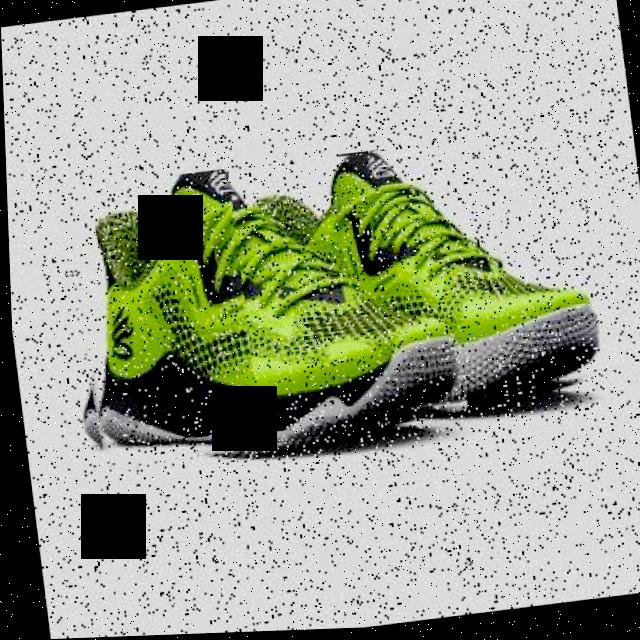shoe: (50, 145, 467, 477), (225, 131, 604, 437)
